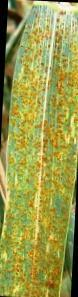Wheat: (13, 115, 70, 205), (26, 23, 76, 109), (9, 209, 58, 296)
